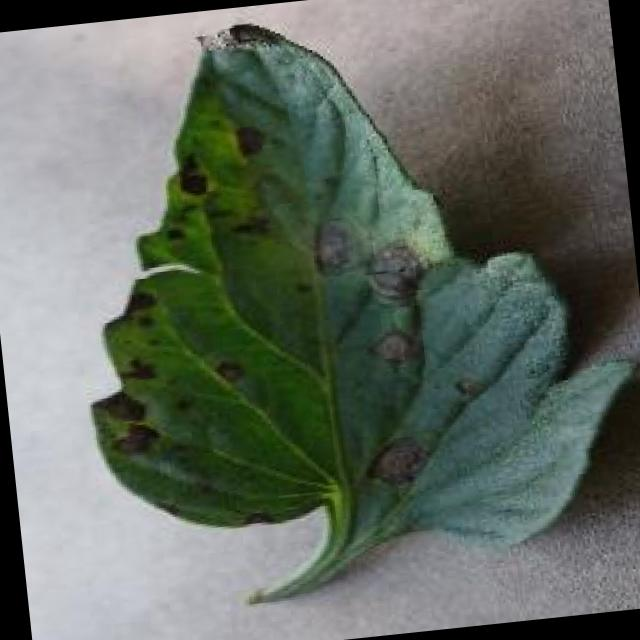Tomato_Early_Blight: (47, 0, 536, 588)
